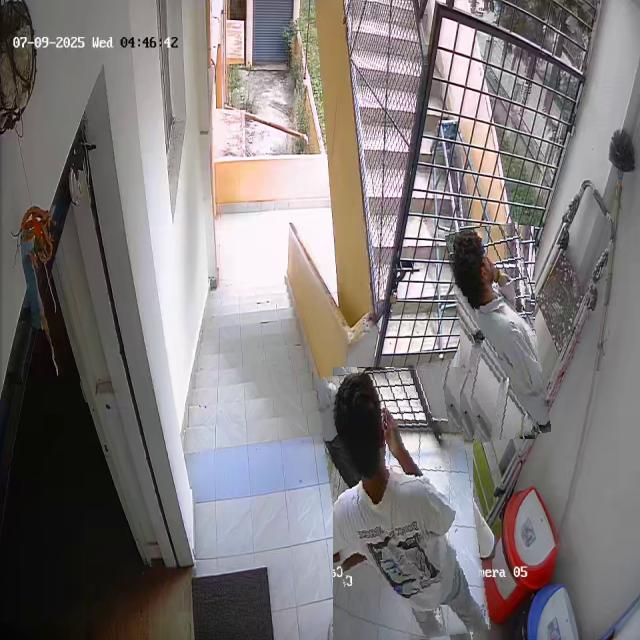person: (324, 363, 482, 640), (452, 224, 543, 441)
